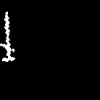double_crochet: (0, 12, 14, 61)
